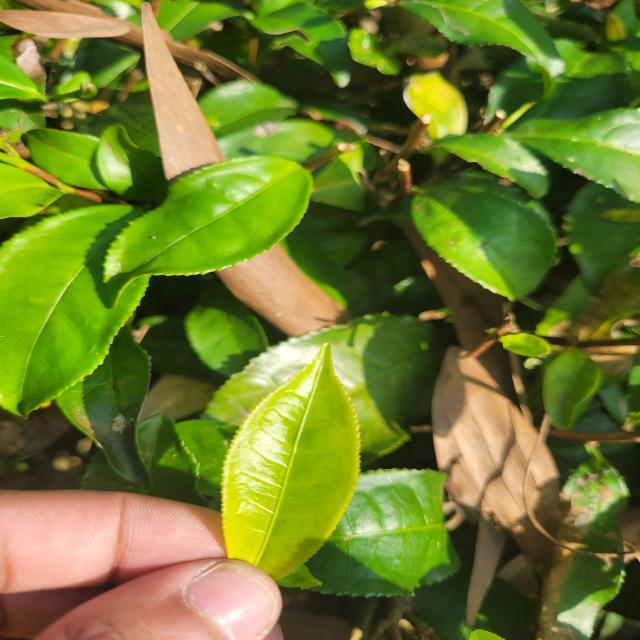Catagory A(1-2 days): (200, 336, 393, 586)
